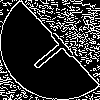T: (25, 25, 83, 78)
